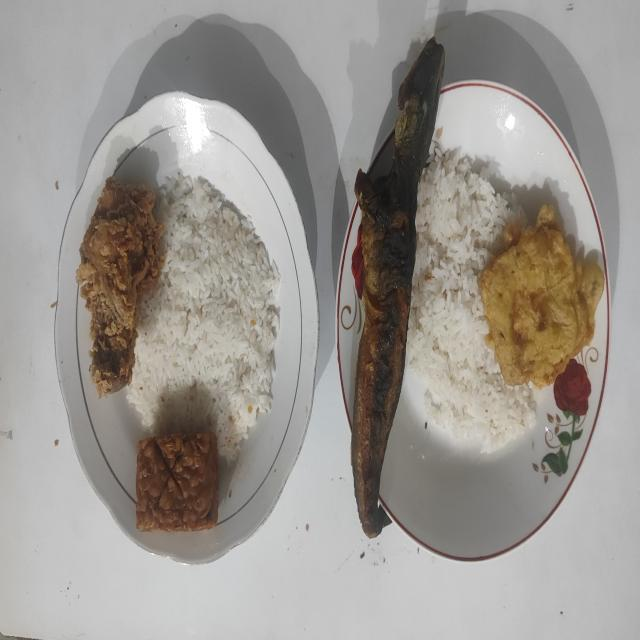nasi_putih: (128, 173, 280, 460), (406, 144, 535, 452)
tempe_goreng: (136, 433, 219, 531)
